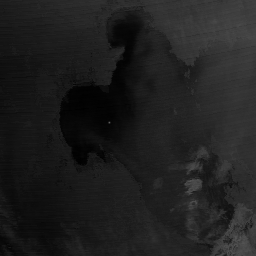Target: (107, 119, 112, 125)
